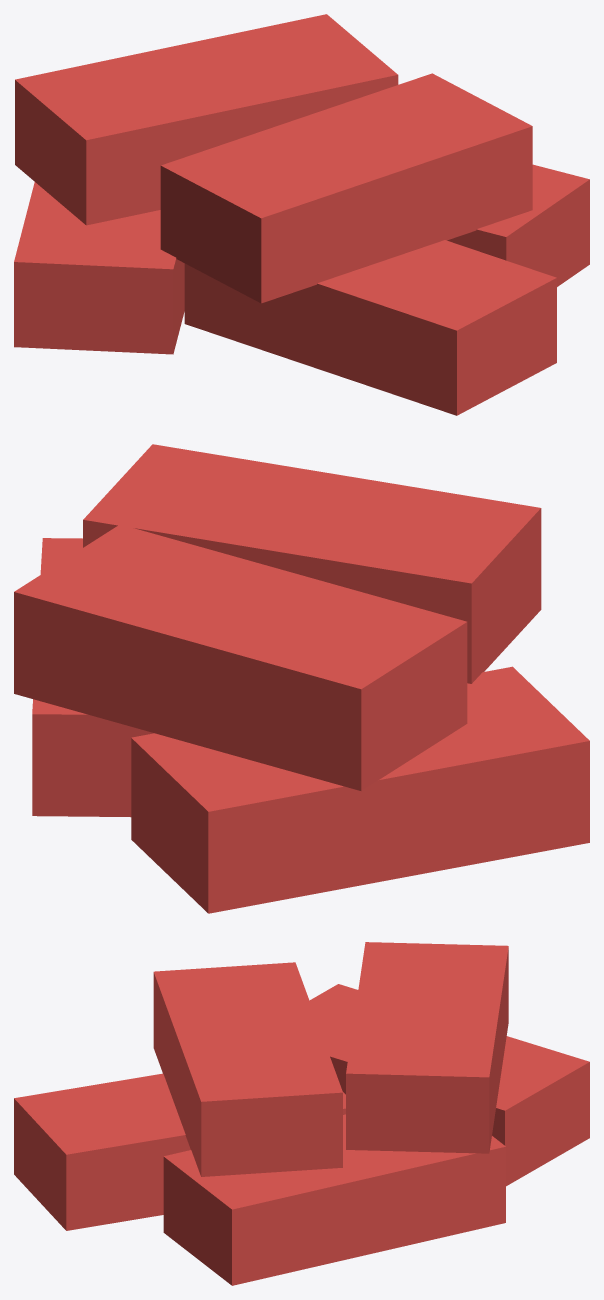
File: g_brick.fbx
3 views of the same model, one above another, from view 1: azimuth 30°, elevation 25°; view 2: azimuth 150°, elevation 25°; view 3: azimuth 270°, elevation 25° (orthographic). The views are drawn at different scales.
Visible parts, largest first — view 1: g_bricks; view 2: g_bricks; view 3: g_bricks.
Part boxes in pixels (x1,y1,x2,y2): g_bricks: [14, 14, 589, 415]; g_bricks: [14, 444, 589, 913]; g_bricks: [14, 942, 589, 1285].
Size of the model in its own units: 63.56 by 68.53 by 20.51.
